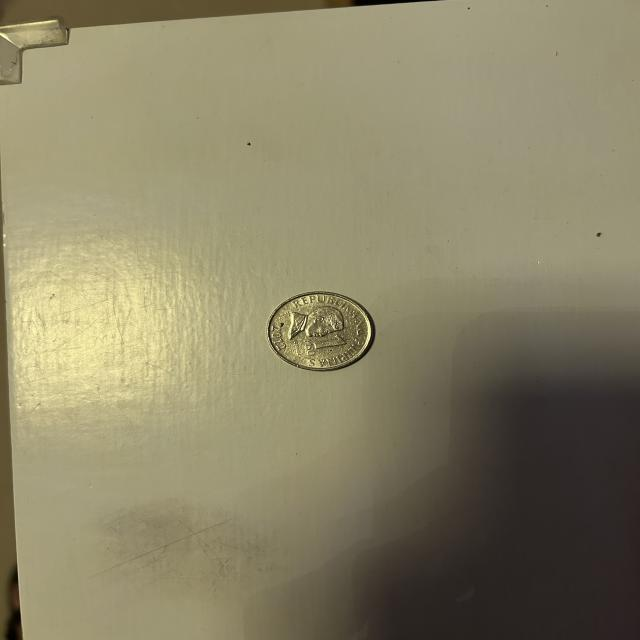1_Old_Front: (297, 336, 350, 359)
